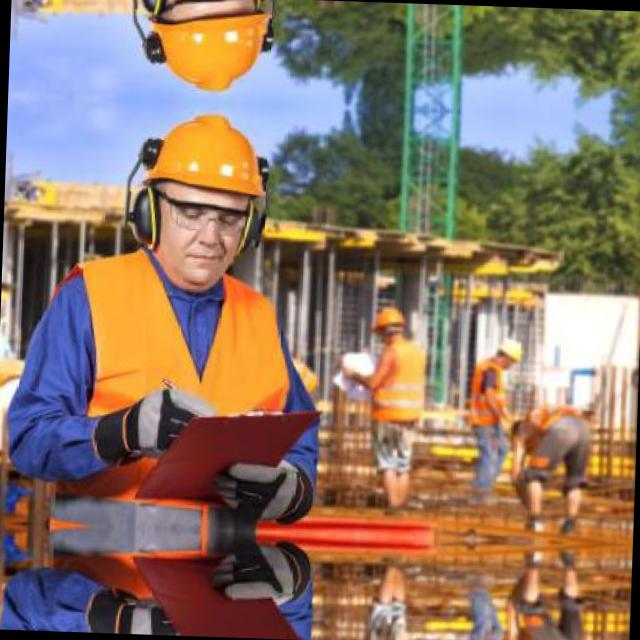helmet: (125, 112, 274, 288), (131, 0, 279, 92), (369, 301, 403, 341), (496, 335, 520, 370)
